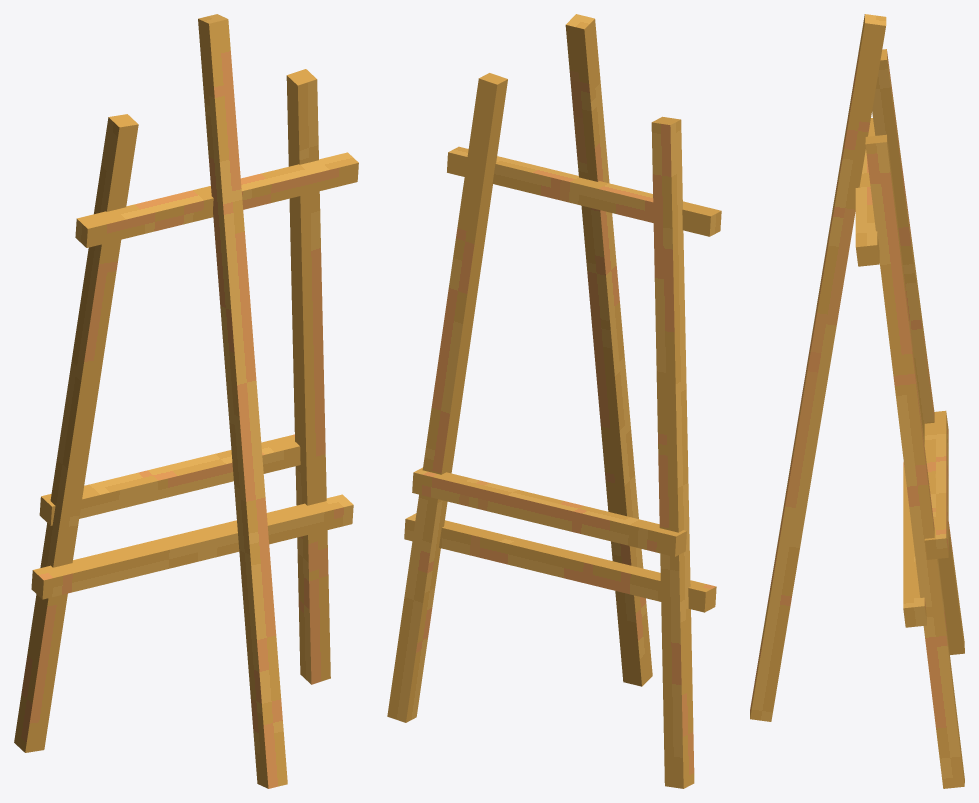
The model's file is cavalete.gltf.
The picture shows the model from 3 angles, left to right: view 1: azimuth 30°, elevation 25°; view 2: azimuth 150°, elevation 25°; view 3: azimuth 270°, elevation 25°; orthographic projection. The views are drawn at different scales.
Visible parts, largest first — view 1: cuboid (×6); view 2: cuboid (×6); view 3: cuboid (×6).
Part boxes in pixels (x1,y1,x2,y2): cuboid (×6): (14, 14, 358, 788); cuboid (×6): (387, 14, 721, 788); cuboid (×6): (750, 14, 964, 788).
Size of the model in its own units: 1 by 2.24 by 0.6226.
Materials: 1 (1 with a texture image).
